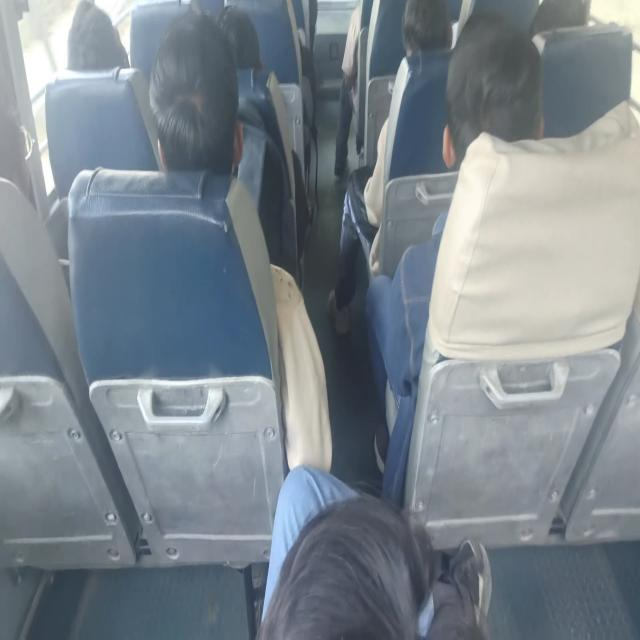person: (239, 466, 519, 640), (434, 12, 547, 183), (154, 42, 245, 182), (0, 99, 45, 211), (62, 0, 128, 75), (394, 0, 461, 66), (211, 8, 263, 70), (528, 0, 588, 43)
